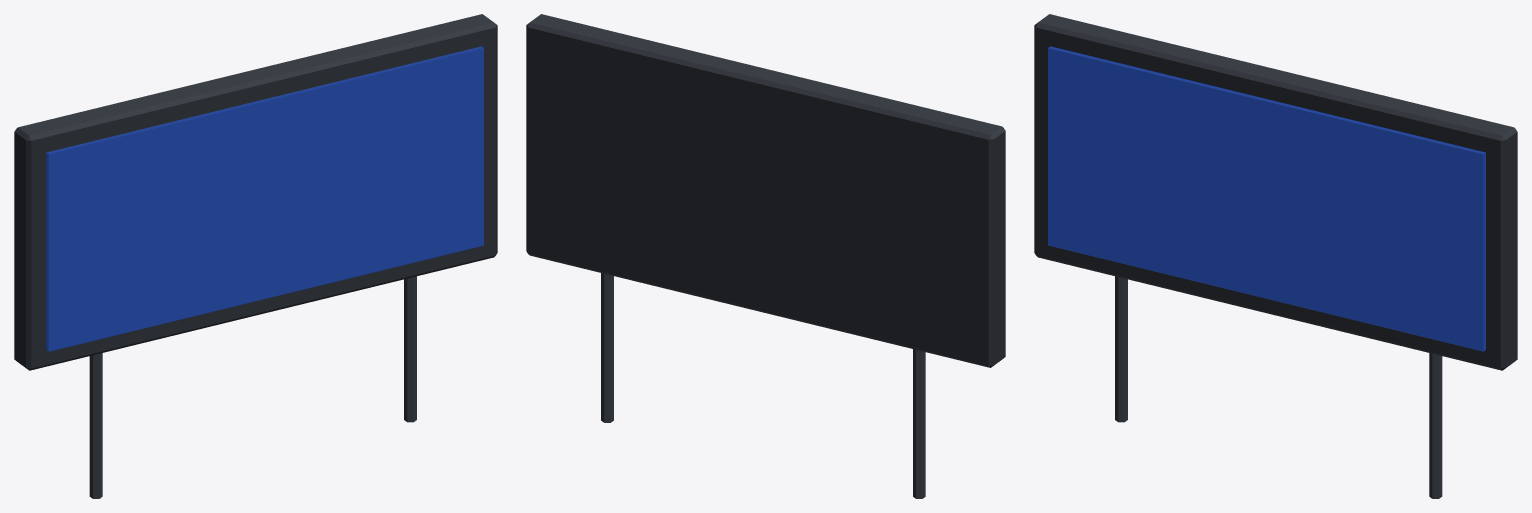
File: SmallScreen.glb
3 views of the same model, side by side, from view 1: azimuth 30°, elevation 25°; view 2: azimuth 150°, elevation 25°; view 3: azimuth 330°, elevation 25° (orthographic).
Visible parts, largest first — view 1: SmallScreen_Glow_screen, SmallScreen; view 2: SmallScreen; view 3: SmallScreen_Glow_screen, SmallScreen.
Part boxes in pixels (x1,y1,x2,y2): SmallScreen_Glow_screen: (46, 46, 483, 351); SmallScreen: (14, 14, 497, 498); SmallScreen: (526, 14, 1005, 498); SmallScreen_Glow_screen: (1048, 46, 1485, 351); SmallScreen: (1034, 14, 1517, 498).
Bounding box in the file's own units: 21 × 16.4 × 1.4.
Materials: 2 (1 with a texture image).
